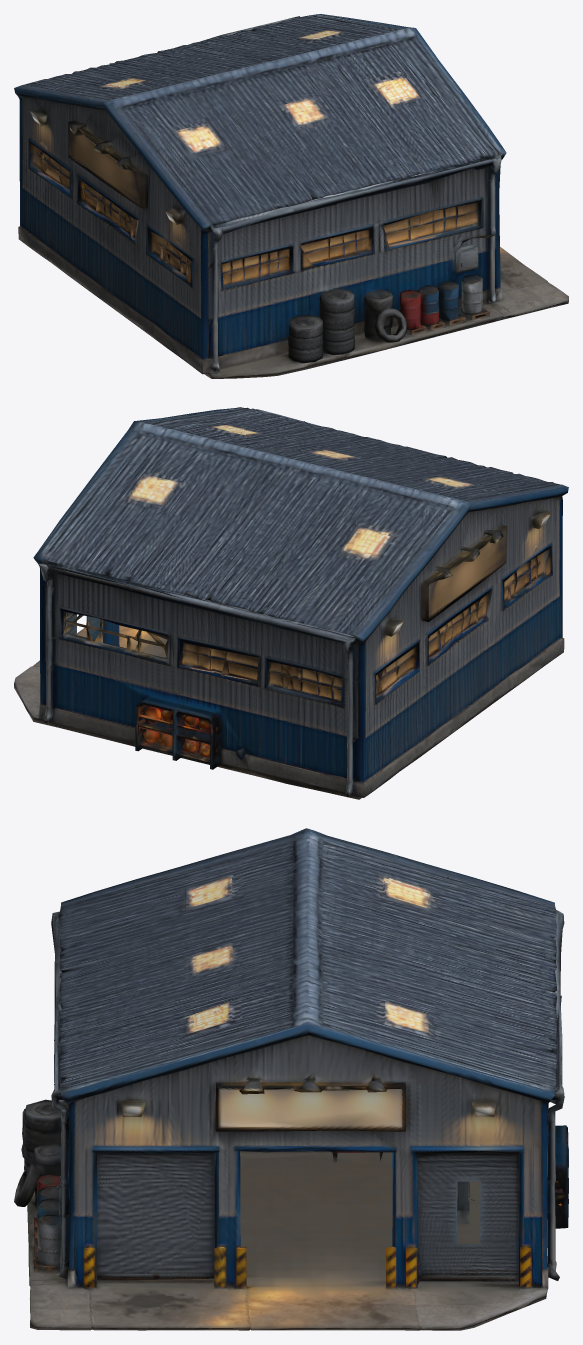
The model's file is warehouse_a.glb.
3 renders of one model, top to bottom at view 1: azimuth 30°, elevation 25°; view 2: azimuth 150°, elevation 25°; view 3: azimuth 270°, elevation 25°, orthographic. The views are drawn at different scales.
Parts seen in each view (by area): view 1: tripo_node_b1e46100-33db-4947-b53c-1ebd1ea52af3; view 2: tripo_node_b1e46100-33db-4947-b53c-1ebd1ea52af3; view 3: tripo_node_b1e46100-33db-4947-b53c-1ebd1ea52af3.
Boxes of the visible parts, left/top/right/bottom form: tripo_node_b1e46100-33db-4947-b53c-1ebd1ea52af3: left=14, top=14, right=568, bottom=378; tripo_node_b1e46100-33db-4947-b53c-1ebd1ea52af3: left=14, top=407, right=568, bottom=799; tripo_node_b1e46100-33db-4947-b53c-1ebd1ea52af3: left=14, top=828, right=568, bottom=1330.
Bounding box in the file's own units: 0.9985 × 0.5485 × 1.
1 material, 1 textured.
